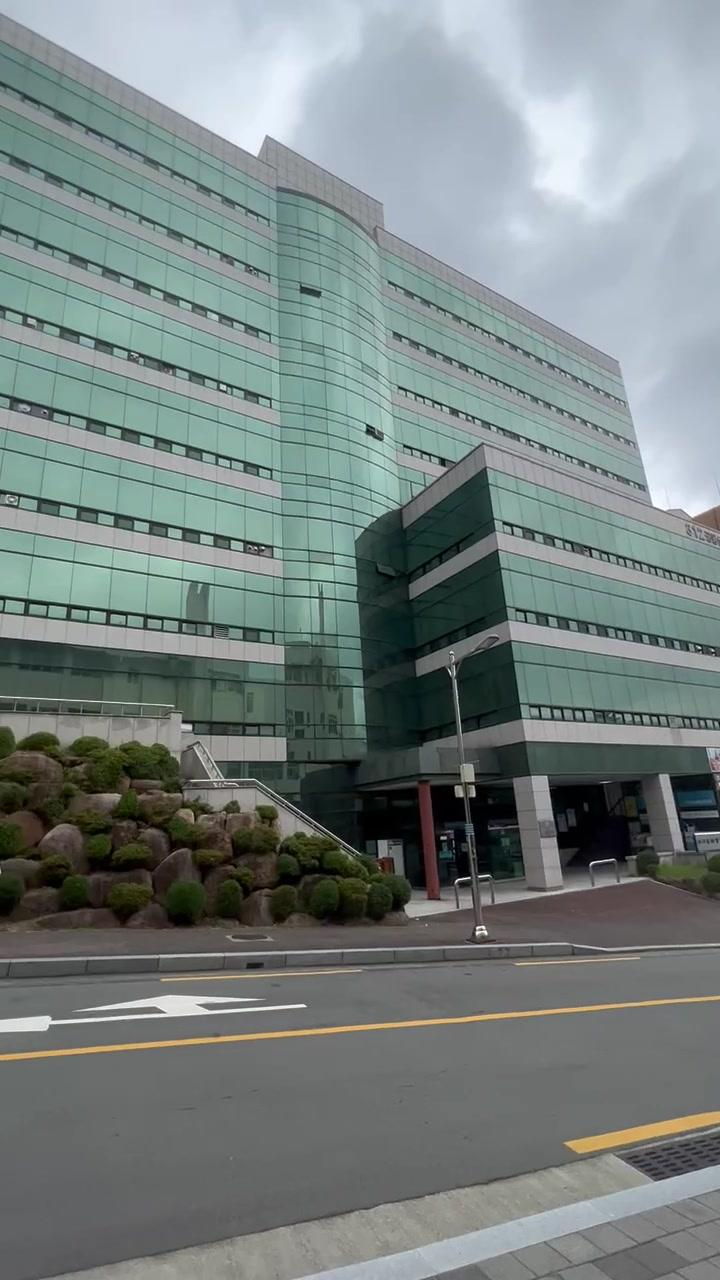building: (52, 150, 702, 760)
